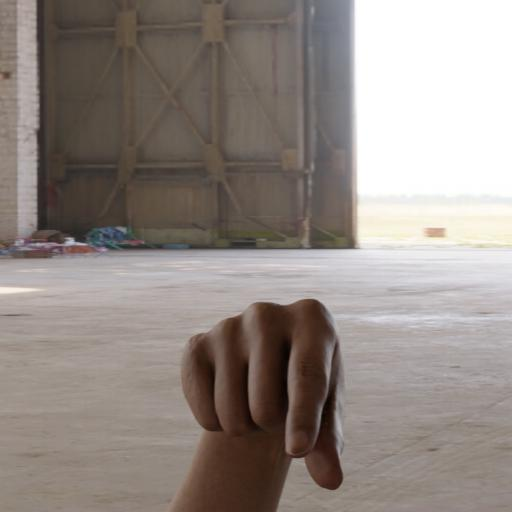Q: (156, 254, 428, 512)
